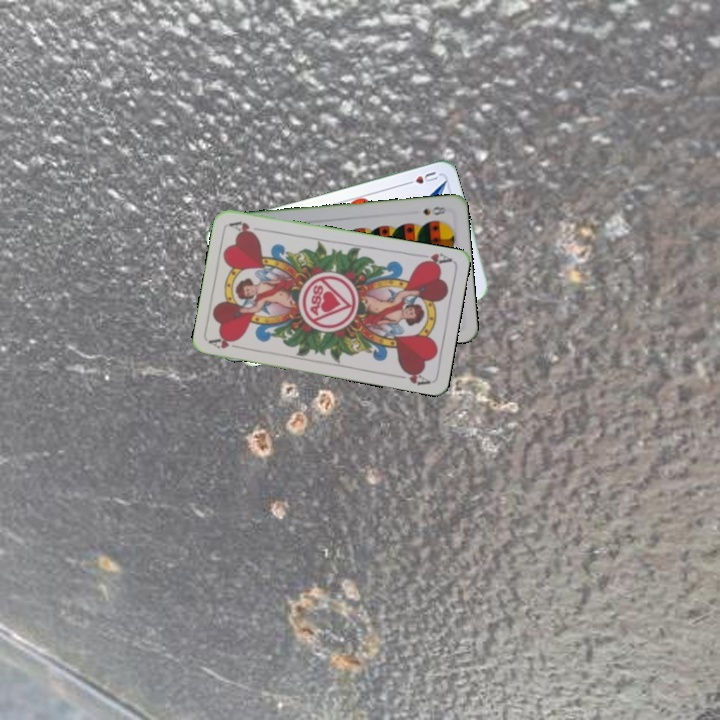HA: (413, 249, 454, 269), (206, 333, 247, 352)
HU: (401, 167, 440, 188)
S8: (419, 202, 448, 218)
